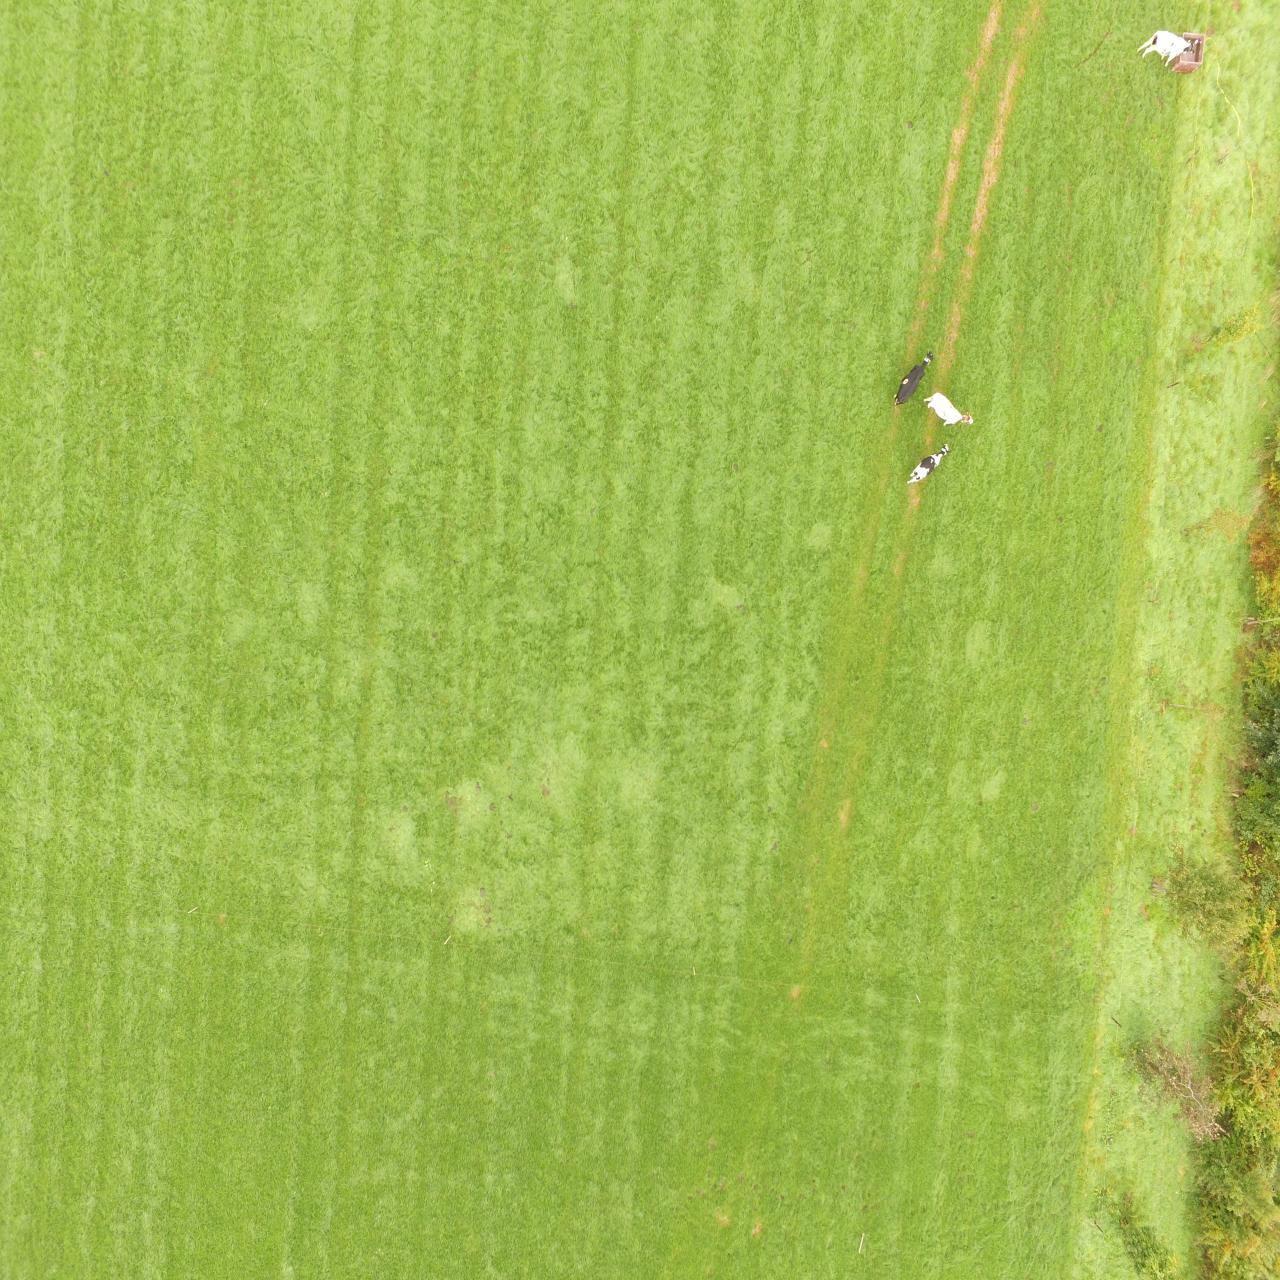cow: (1139, 29, 1203, 73), (893, 349, 933, 407), (925, 392, 974, 431), (907, 443, 953, 485)
